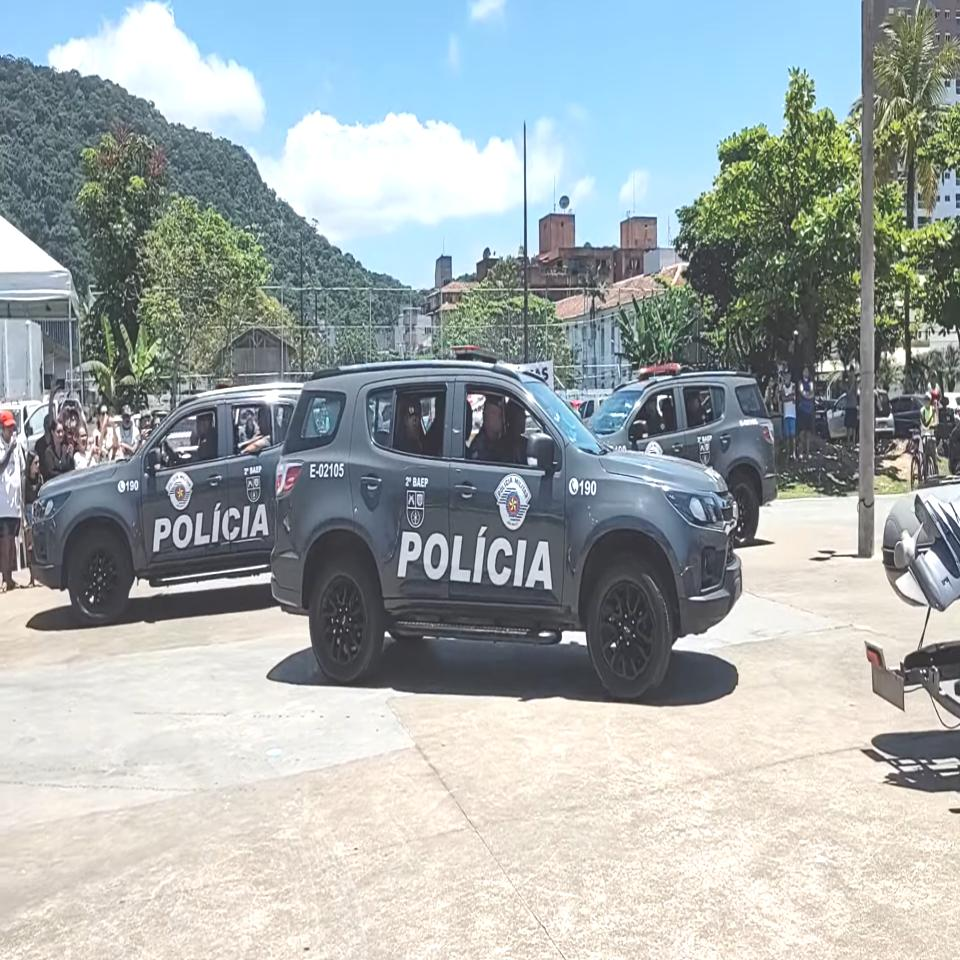viatura: (268, 346, 744, 704), (27, 394, 296, 629)
